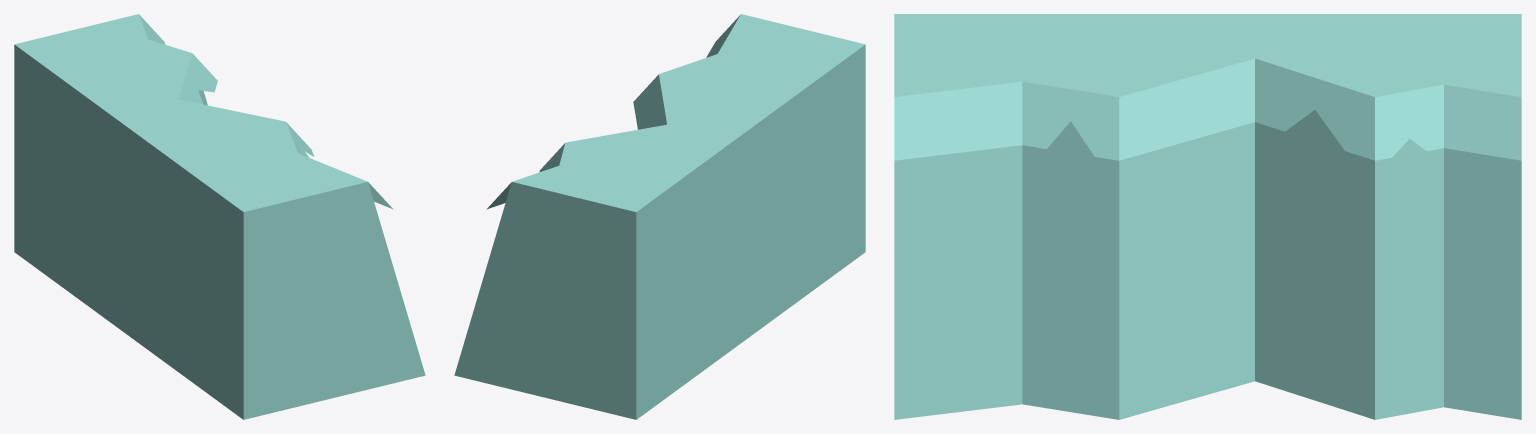
The model's file is cliffBrown_half.fbx.
3 views of the same model, side by side, from view 1: azimuth 30°, elevation 25°; view 2: azimuth 150°, elevation 25°; view 3: azimuth 270°, elevation 25° (orthographic). The views are drawn at different scales.
Parts seen in each view (by area): view 1: cliffBrown_half; view 2: cliffBrown_half; view 3: cliffBrown_half.
Boxes of the visible parts, x1,y1,x2,y2 form: cliffBrown_half: (14,14,425,419); cliffBrown_half: (454,14,865,419); cliffBrown_half: (894,14,1521,419).
Bounding box in the file's own units: 138 × 150 × 300.
